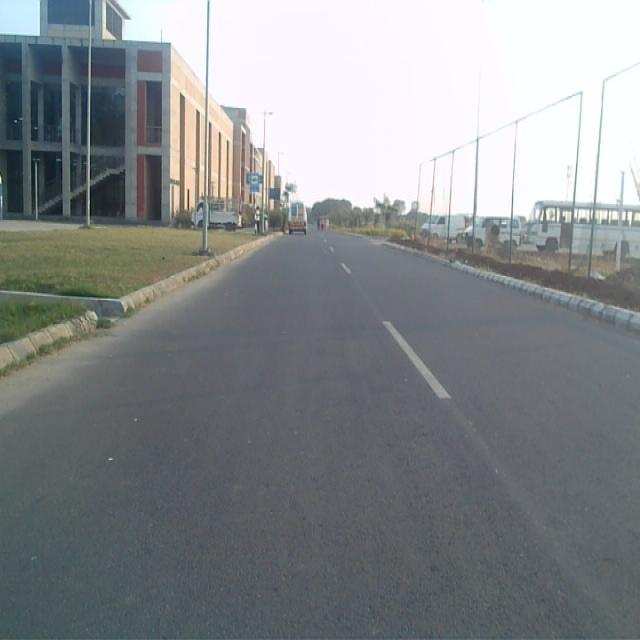lane: (0, 235, 622, 640)
